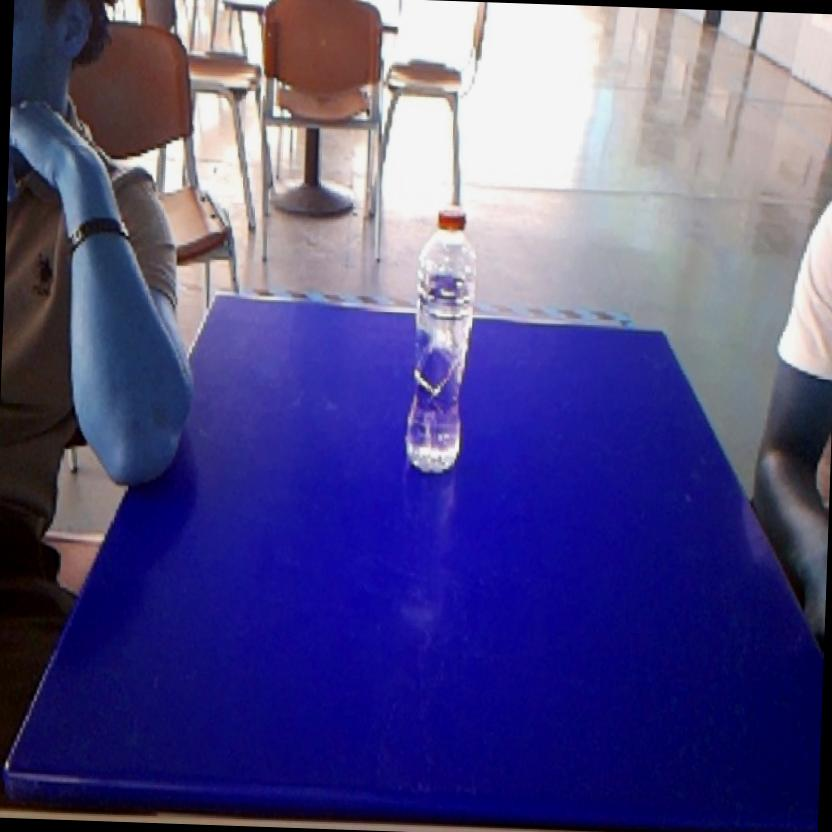no_label: (398, 190, 486, 480)
